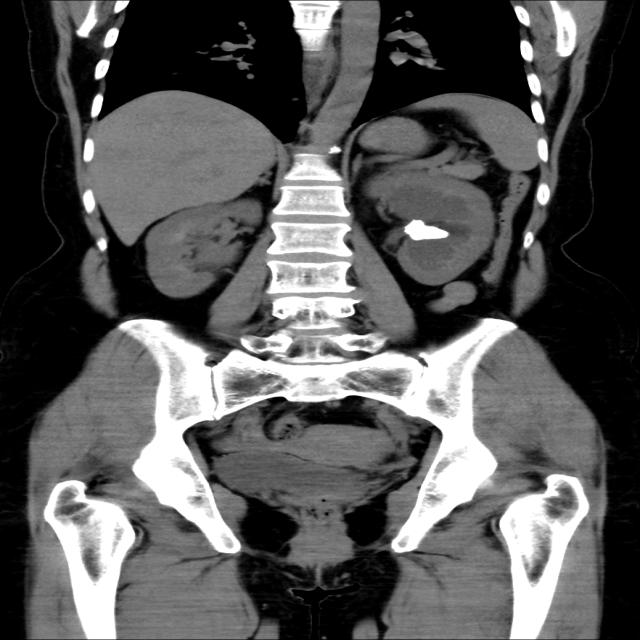kidneystone: (405, 220, 449, 241)
